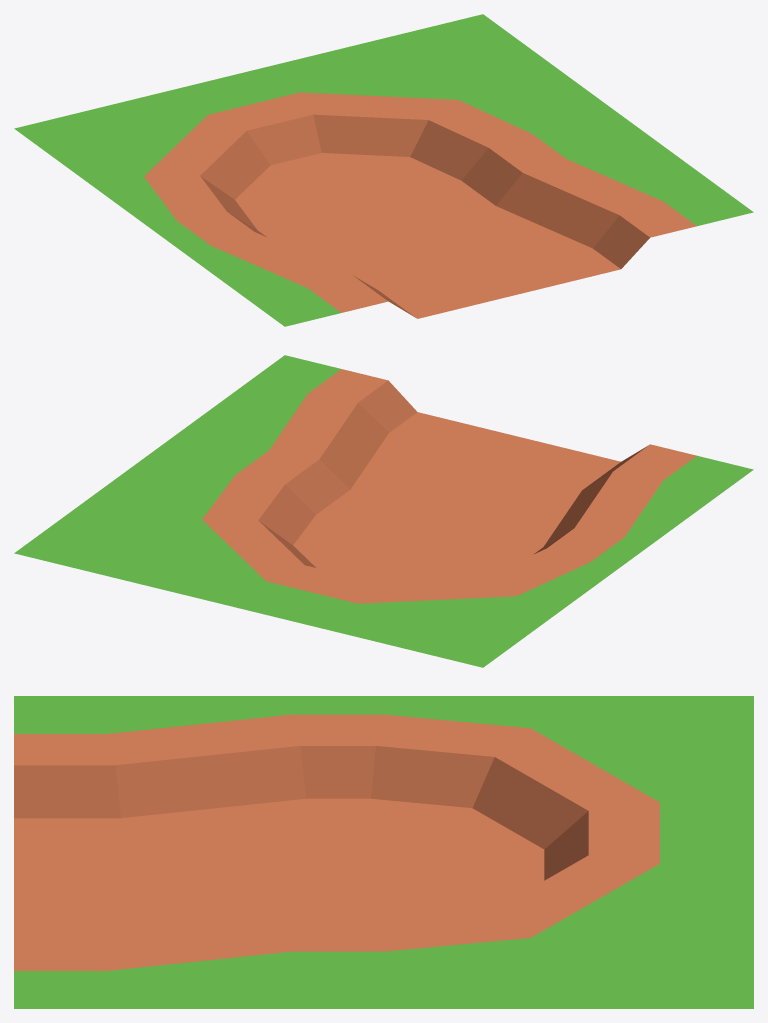
Rendered from ground_pathEndClosed.glb.
3 views of the same model, one above another, from view 1: azimuth 30°, elevation 25°; view 2: azimuth 150°, elevation 25°; view 3: azimuth 270°, elevation 25° (orthographic). The views are drawn at different scales.
Visible parts, largest first — view 1: ground_pathEndClosed; view 2: ground_pathEndClosed; view 3: ground_pathEndClosed.
Boxes of the visible parts, x1,y1,x2,y2 form: ground_pathEndClosed: [14, 14, 753, 326]; ground_pathEndClosed: [14, 355, 753, 667]; ground_pathEndClosed: [14, 696, 753, 1008].
Size of the model in its own units: 1 by 0.05 by 1.
